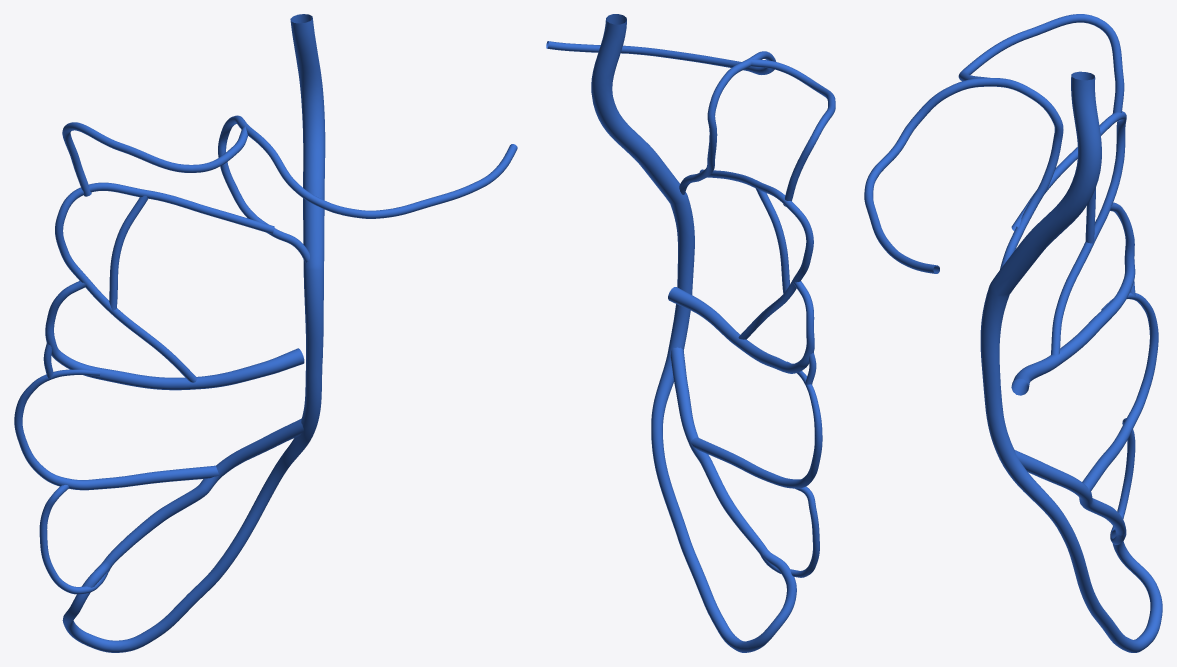
Rendered from circulatorio-superior-mesenteric-vein.glb.
3 renders of one model, left to right at view 1: azimuth 30°, elevation 25°; view 2: azimuth 150°, elevation 25°; view 3: azimuth 270°, elevation 25°, orthographic. The views are drawn at different scales.
Parts seen in each view (by area): view 1: Superior mesenteric vein, Middle colic vein, Right gastro-omental vein, Right colic vein; view 2: Superior mesenteric vein, Middle colic vein, Right gastro-omental vein, Right colic vein; view 3: Superior mesenteric vein, Right gastro-omental vein, Middle colic vein, Right colic vein.
Part boxes in pixels (<box>): Superior mesenteric vein: <box>62,14,325,652</box>; Middle colic vein: <box>45,182,304,390</box>; Right gastro-omental vein: <box>62,115,517,262</box>; Right colic vein: <box>14,343,219,594</box>; Superior mesenteric vein: <box>591,14,796,652</box>; Middle colic vein: <box>668,169,814,373</box>; Right gastro-omental vein: <box>546,41,835,206</box>; Right colic vein: <box>690,352,822,577</box>; Superior mesenteric vein: <box>980,71,1162,652</box>; Right gastro-omental vein: <box>864,14,1124,273</box>; Middle colic vein: <box>1011,111,1135,395</box>; Right colic vein: <box>1082,281,1158,544</box>.
Bounding box in the file's own units: 0.1101 × 0.1628 × 0.0673.
